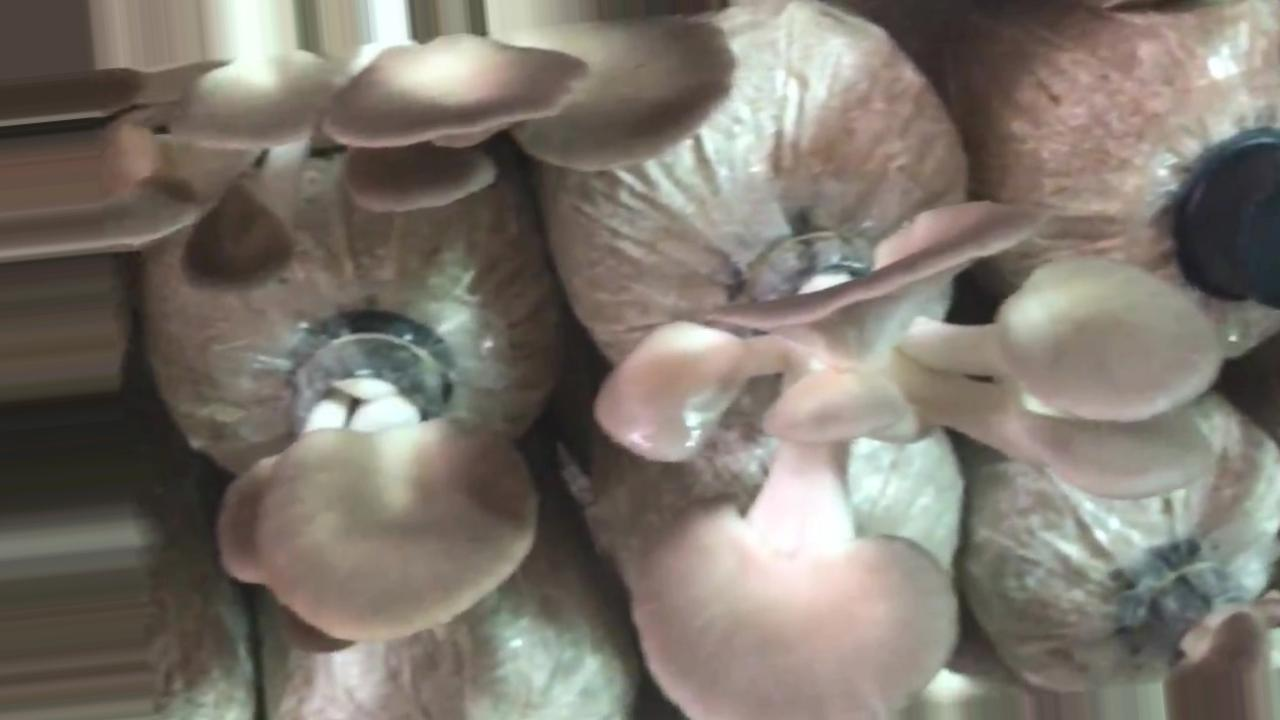nam: (588, 192, 1225, 720), (160, 5, 745, 295), (214, 318, 542, 645)
